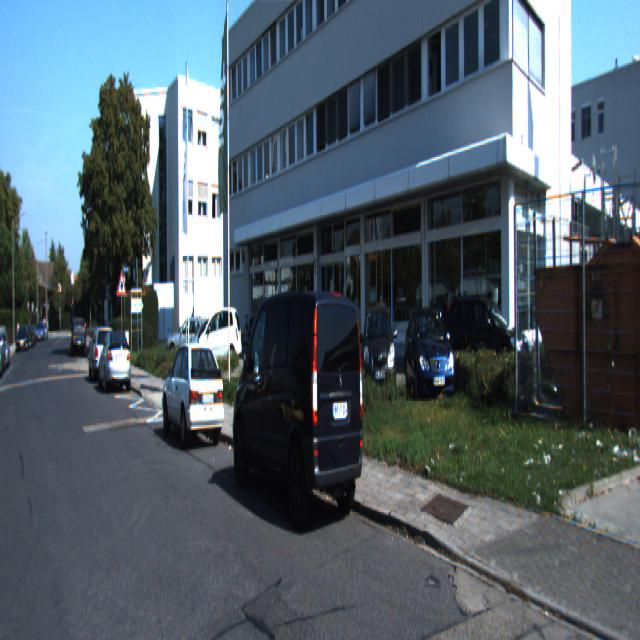Car: (228, 277, 367, 544), (158, 336, 226, 452), (404, 305, 458, 419), (359, 300, 397, 410), (194, 304, 242, 372), (98, 329, 131, 396), (67, 317, 82, 358)
